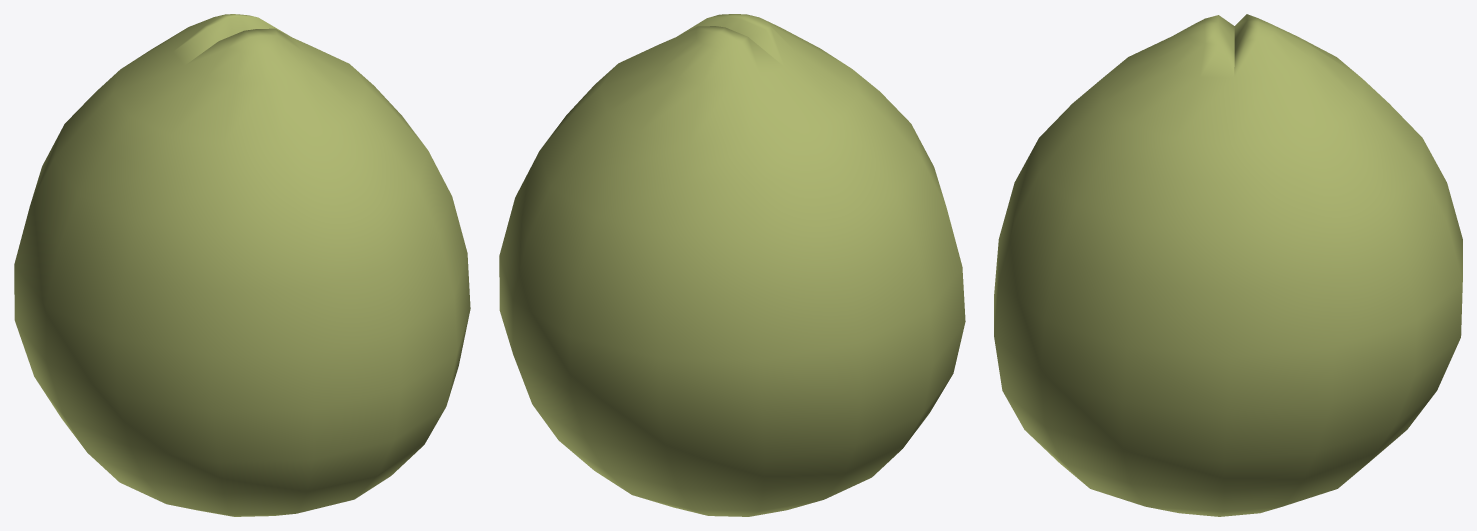
The model's file is atoll_greenCoconut.fbx.
The picture shows the model from 3 angles, left to right: view 1: azimuth 30°, elevation 25°; view 2: azimuth 150°, elevation 25°; view 3: azimuth 270°, elevation 25°; orthographic projection. The views are drawn at different scales.
Parts seen in each view (by area): view 1: Coconut; view 2: Coconut; view 3: Coconut.
Part boxes in pixels (x1,y1,x2,y2): Coconut: (14,14,470,516); Coconut: (499,14,965,516); Coconut: (994,14,1462,516).
Bounding box in the file's own units: 45.54 × 51.46 × 46.55.
